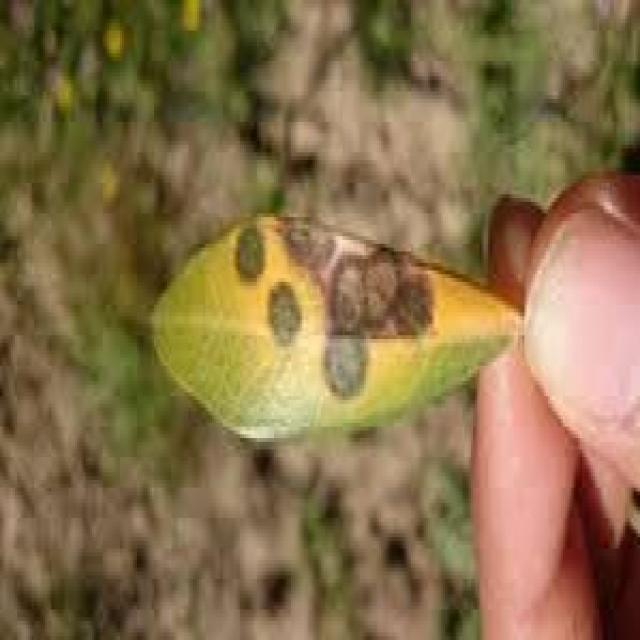OlivePeacockSpot: (154, 215, 522, 440)
